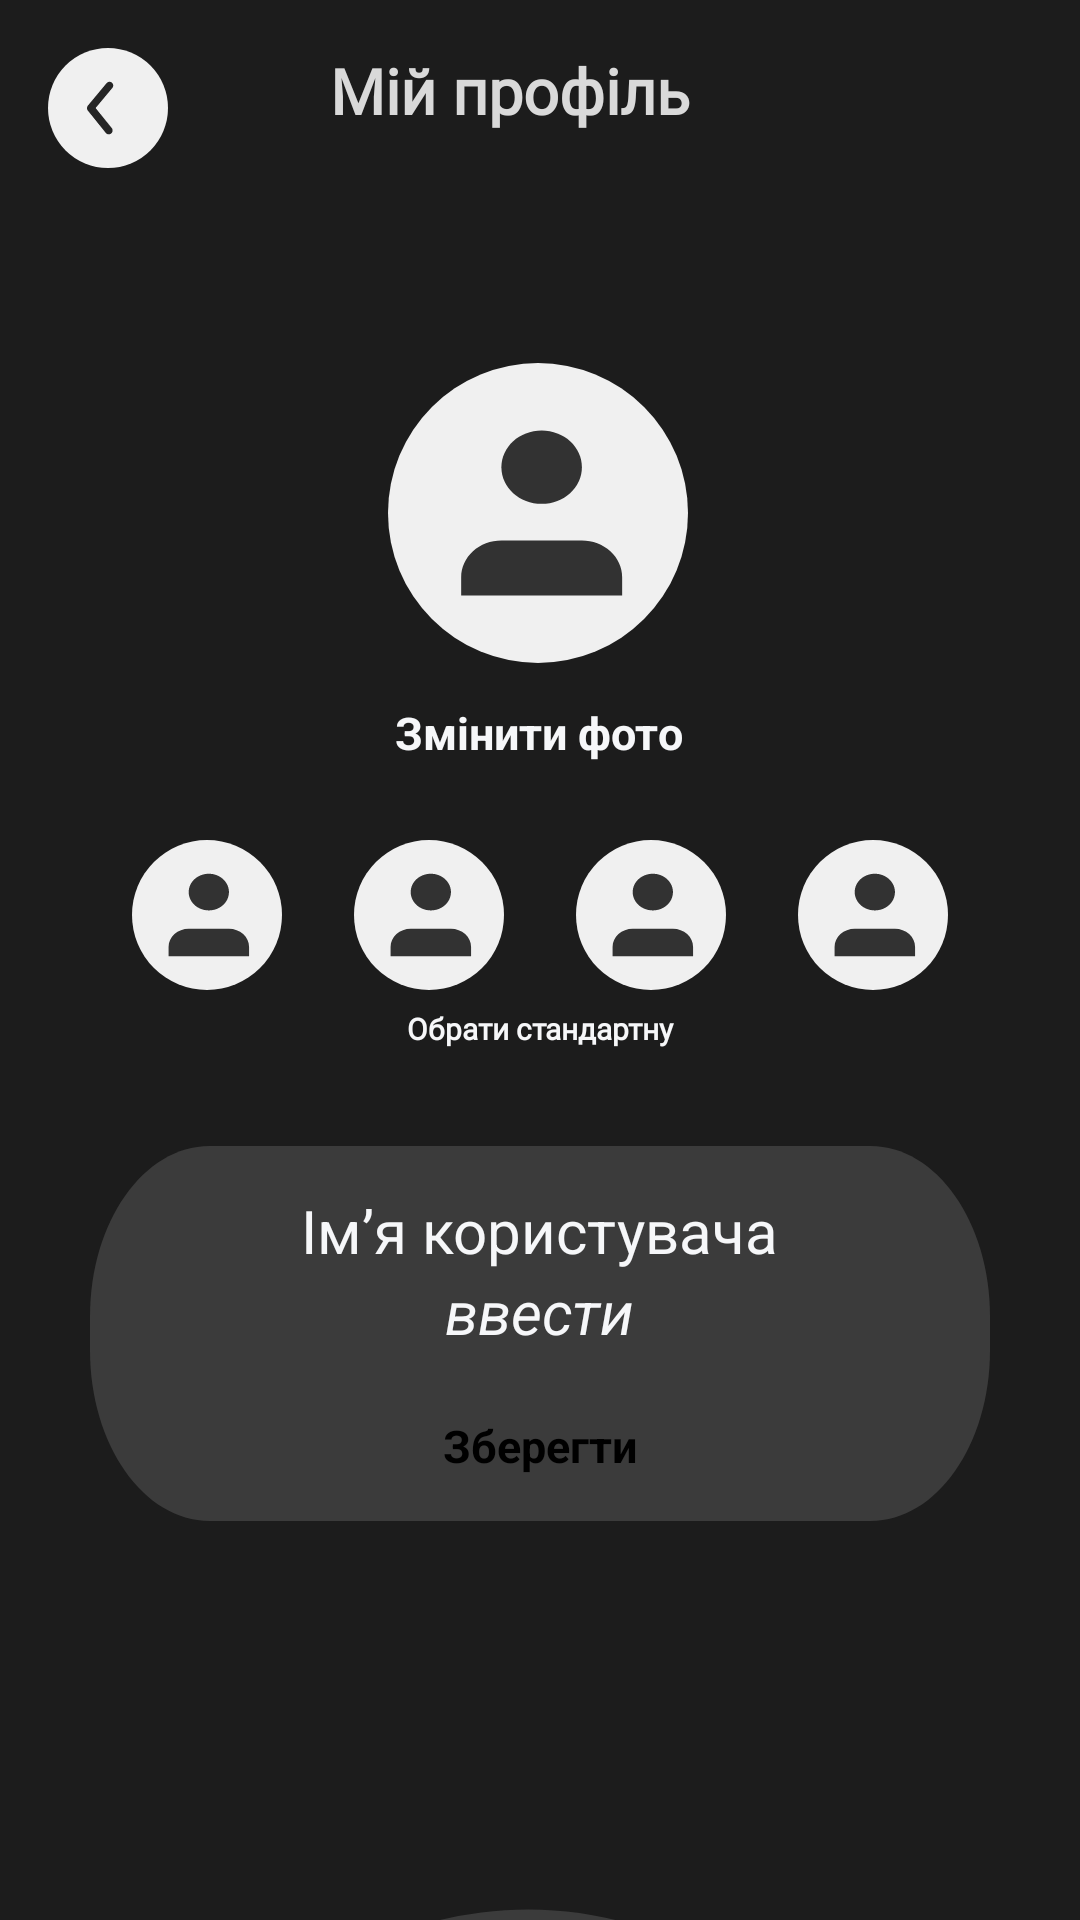

Icons on this 1080x1920 Android screen, each with its box as (x1, y1, x2, y2):
Аватар 1: (132, 840, 282, 990)
Аватар 2: (354, 840, 504, 990)
Аватар 3: (576, 840, 726, 990)
Аватар 4: (798, 840, 948, 990)
Назад: (48, 48, 168, 168)
